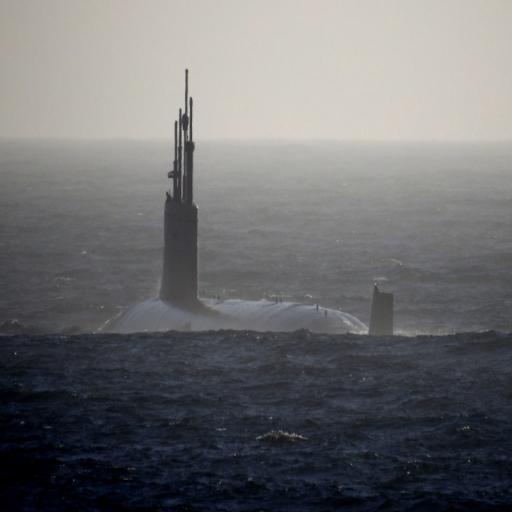submarine: (93, 61, 401, 338)
